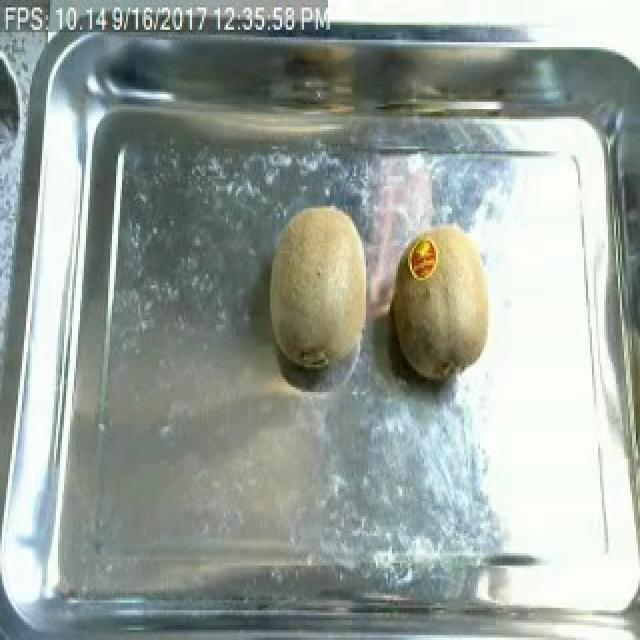Fruit: (258, 196, 376, 377), (382, 218, 502, 392)
